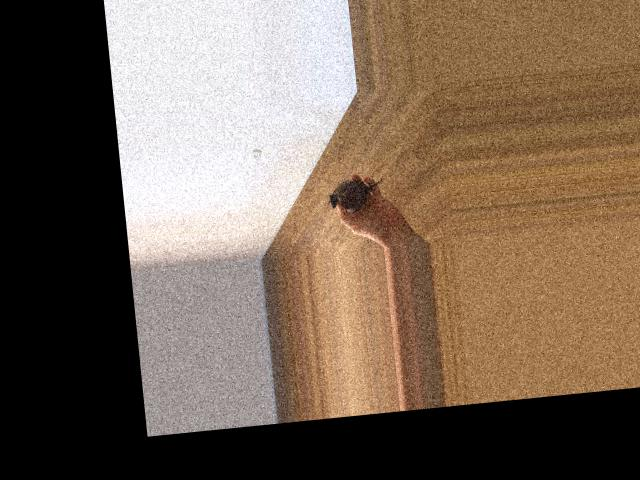beet: (327, 175, 385, 213)
